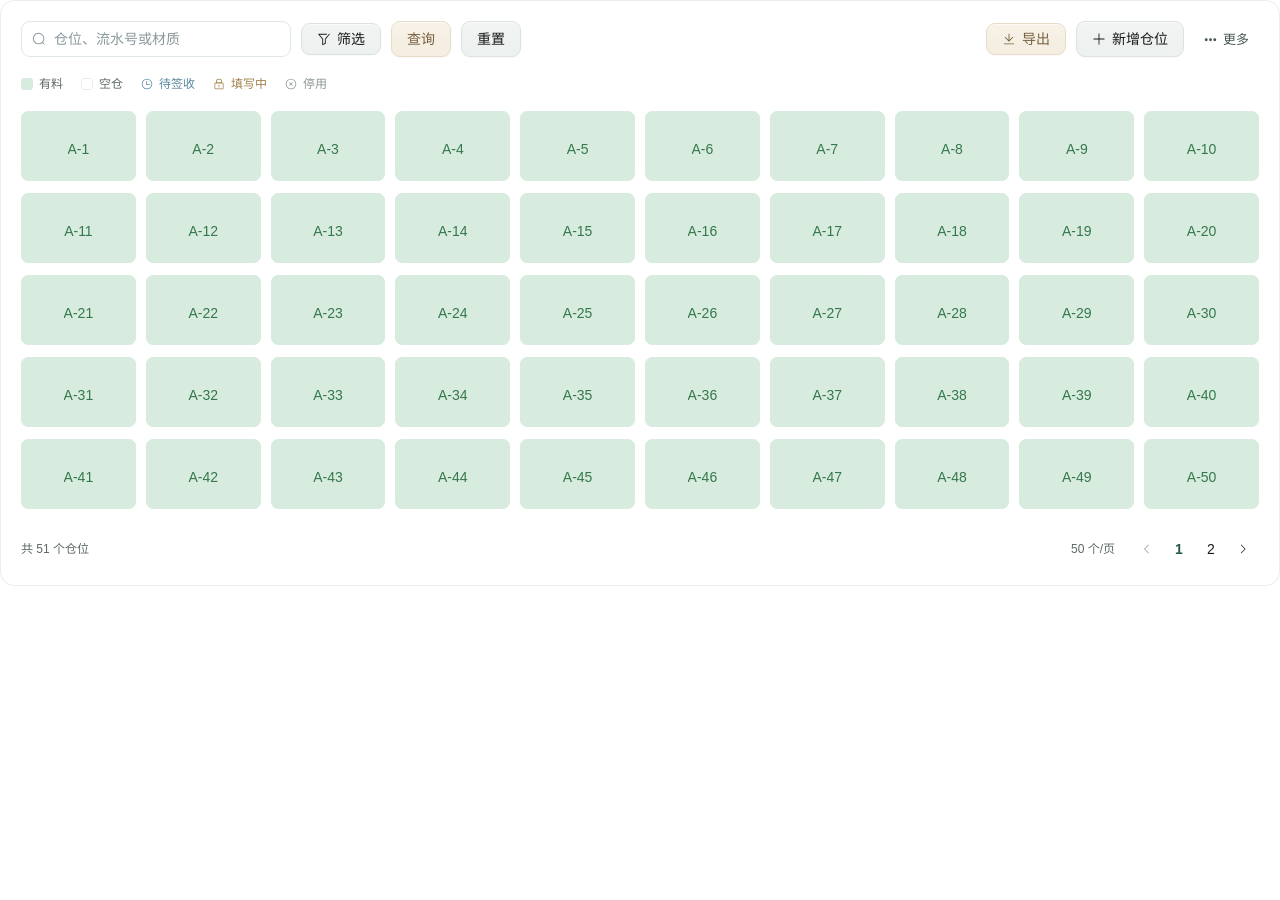
warehouse management › uses the initial capacity before measurement and keeps material details inside the popup
The image size is (1280, 900).
Expected: the element with class "warehouse-grid" does not show "TL"
Expected: the element with class "warehouse-grid" does not show "材料1"
Click the button with class "warehouse-slot" showing "A-1". click: (78, 146)
box: [21, 111, 136, 181]
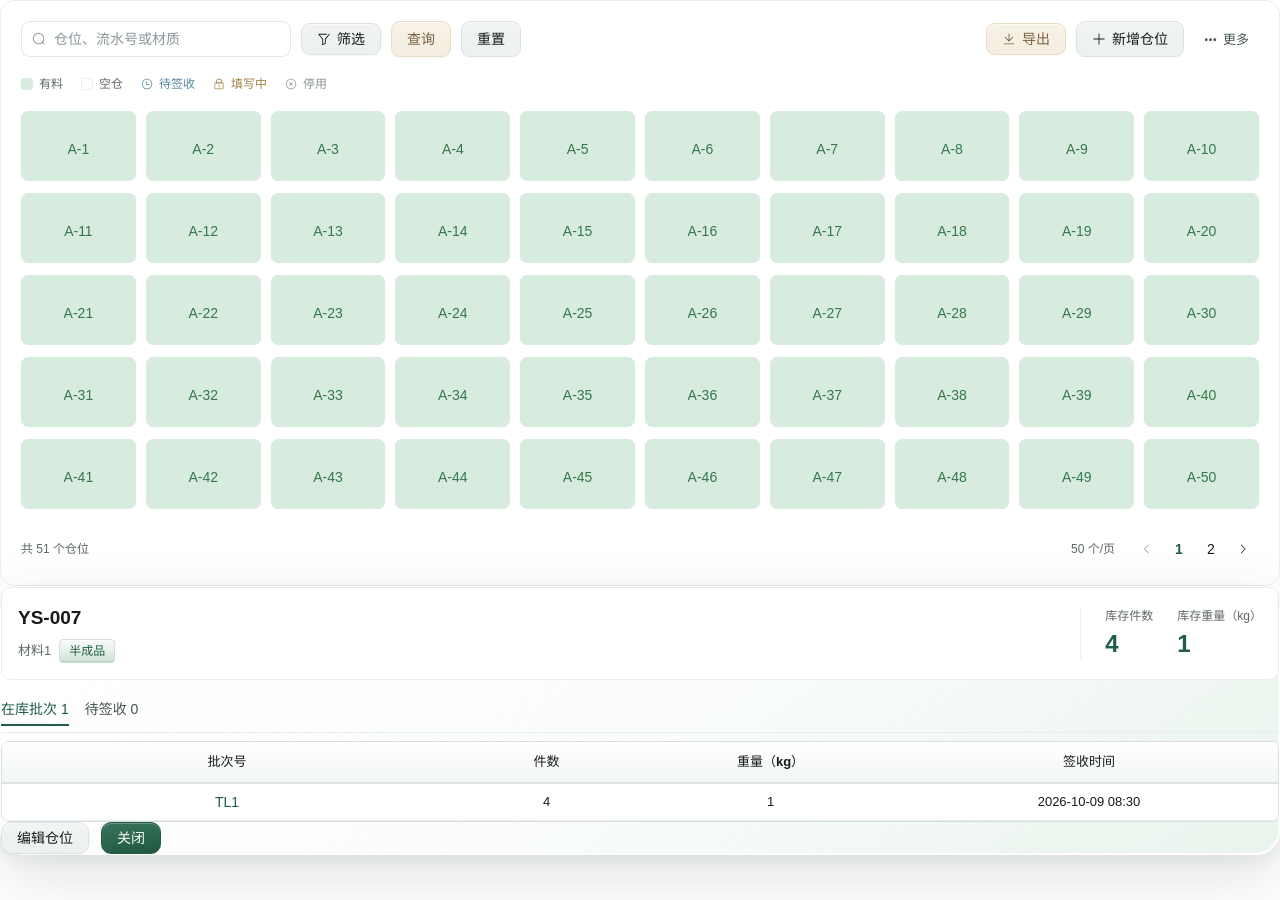
Now the text "YS-007" is shown, box [18, 607, 81, 628]
Now the text "2026-10-09 08:30" is shown, box [1038, 794, 1140, 808]
